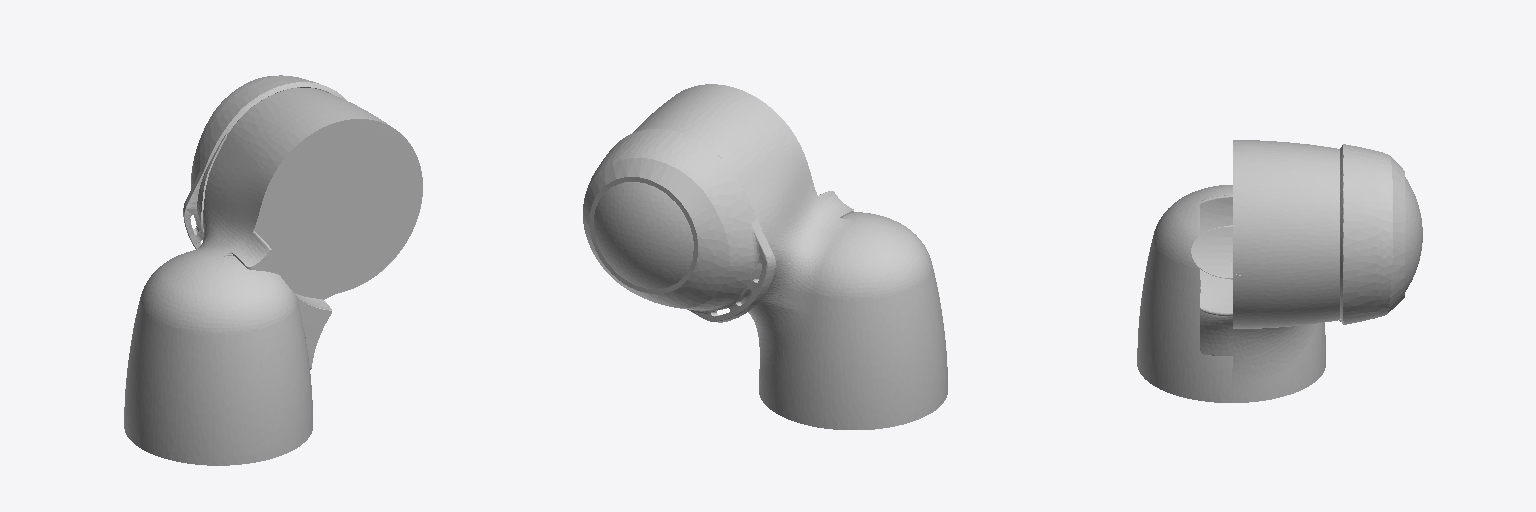
3 renders of one model, left to right at view 1: azimuth 30°, elevation 25°; view 2: azimuth 150°, elevation 25°; view 3: azimuth 270°, elevation 25°, orthographic.
Visible parts, largest first — view 1: node3_Part__Feature003.003, node0_001_Part__Feature.006, node1_Part__Feature001.004, node2_Part__Feature002.004; view 2: node3_Part__Feature003.003, node0_001_Part__Feature.006; view 3: node3_Part__Feature003.003, node0_001_Part__Feature.006, node1_Part__Feature001.004, node2_Part__Feature002.004.
Boxes of the visible parts, x1,y1,x2,y2 form: node3_Part__Feature003.003: [124, 88, 422, 465]; node0_001_Part__Feature.006: [183, 75, 346, 248]; node1_Part__Feature001.004: [294, 293, 331, 369]; node2_Part__Feature002.004: [232, 231, 278, 274]; node3_Part__Feature003.003: [594, 84, 947, 429]; node0_001_Part__Feature.006: [583, 129, 778, 322]; node3_Part__Feature003.003: [1137, 140, 1422, 402]; node0_001_Part__Feature.006: [1339, 144, 1404, 324]; node1_Part__Feature001.004: [1200, 269, 1232, 355]; node2_Part__Feature002.004: [1200, 195, 1232, 233].
Bounding box in the file's own units: 0.1925 × 0.176 × 0.1661.